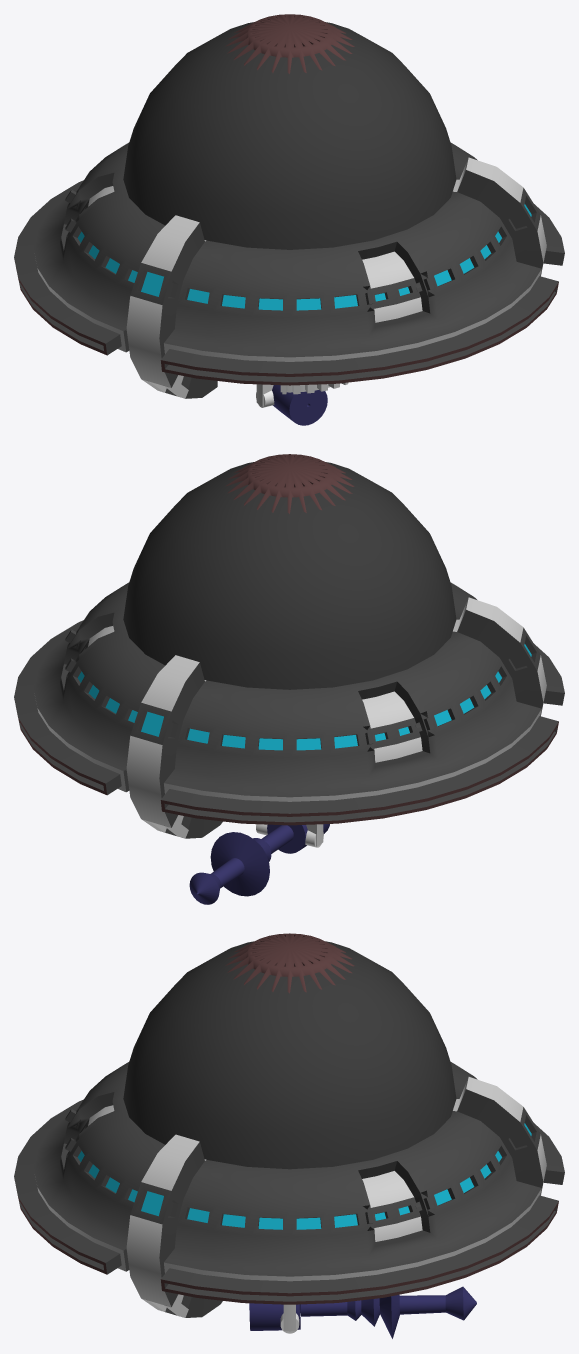
Rendered from worldship.fbx.
3 views of the same model, one above another, from view 1: azimuth 30°, elevation 25°; view 2: azimuth 150°, elevation 25°; view 3: azimuth 270°, elevation 25° (orthographic).
Visible parts, largest first — view 1: Torus, Sphere, Sphere_2, Lathe, Disc_1; view 2: Torus, Sphere, Lathe, Sphere_2; view 3: Torus, Sphere, Lathe, Sphere_2.
Part boxes in pixels (left/top/right/bottom): Torus: left=14, top=142, right=564, bottom=398; Sphere: left=123, top=22, right=456, bottom=249; Sphere_2: left=225, top=14, right=354, bottom=73; Lathe: left=272, top=385, right=327, bottom=425; Disc_1: left=256, top=382, right=348, bottom=406; Torus: left=14, top=582, right=564, bottom=838; Sphere: left=123, top=462, right=456, bottom=689; Lathe: left=189, top=824, right=329, bottom=904; Sphere_2: left=225, top=454, right=354, bottom=513; Torus: left=14, top=1062, right=564, bottom=1317; Sphere: left=123, top=941, right=456, bottom=1169; Lathe: left=249, top=1286, right=476, bottom=1338; Sphere_2: left=225, top=933, right=354, bottom=993.
Size of the model in its own units: 813 by 635 by 811.
